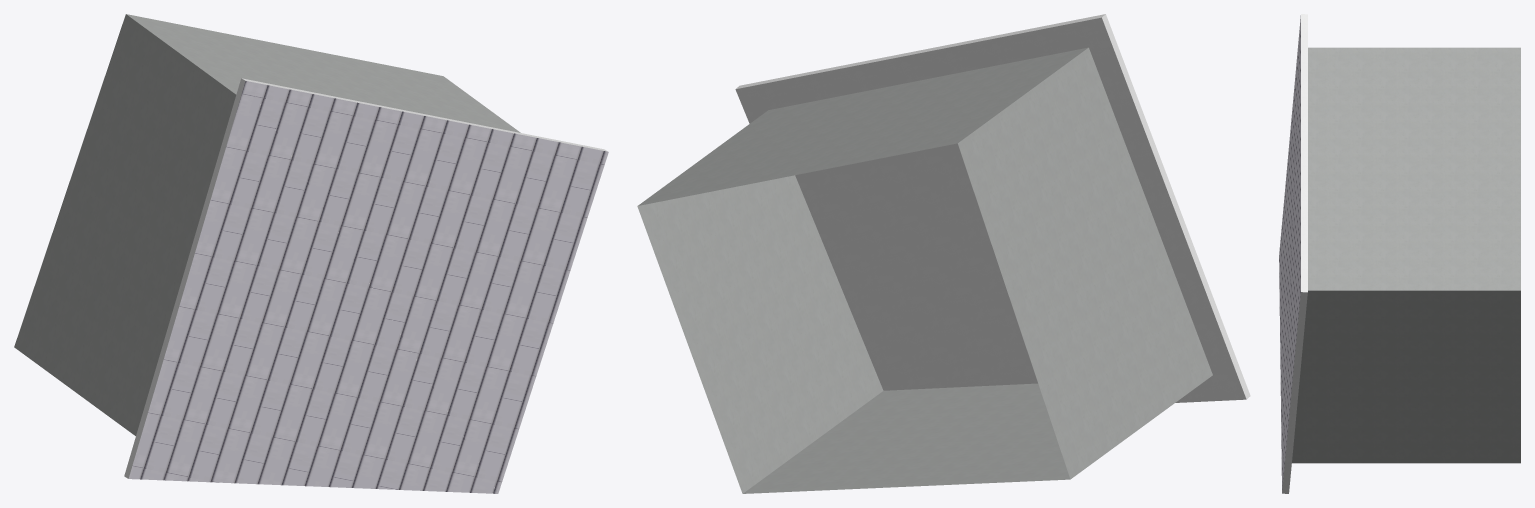
Rendered from Laboratooriumi_14a.obj.
3 renders of one model, left to right at view 1: azimuth 30°, elevation 25°; view 2: azimuth 150°, elevation 25°; view 3: azimuth 270°, elevation 25°, orthographic. The views are drawn at different scales.
Visible parts, largest first — view 1: Laboratooriumi_14a; view 2: Laboratooriumi_14a; view 3: Laboratooriumi_14a.
Boxes of the visible parts, x1,y1,x2,y2 form: Laboratooriumi_14a: (14, 14, 608, 493); Laboratooriumi_14a: (637, 14, 1250, 493); Laboratooriumi_14a: (1279, 14, 1520, 493).
Bounding box in the file's own units: 10.14 × 9.11 × 5.21.
